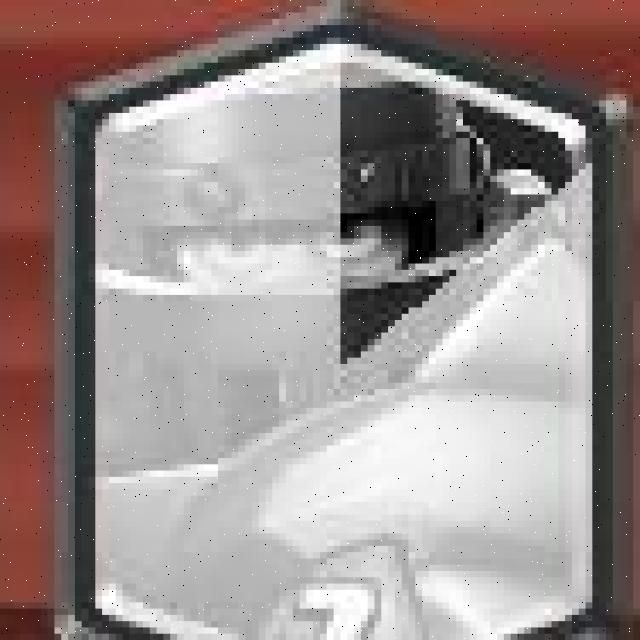Mega_Knight: (64, 8, 609, 640)
